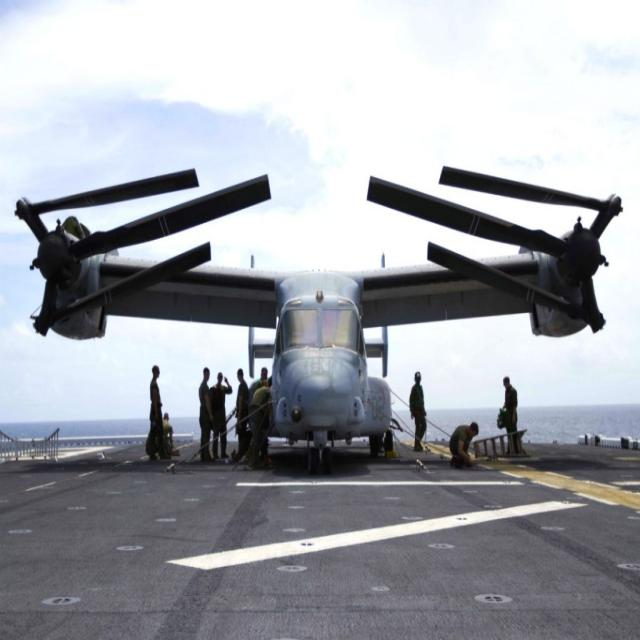MIL_Plane: (13, 165, 625, 477)
